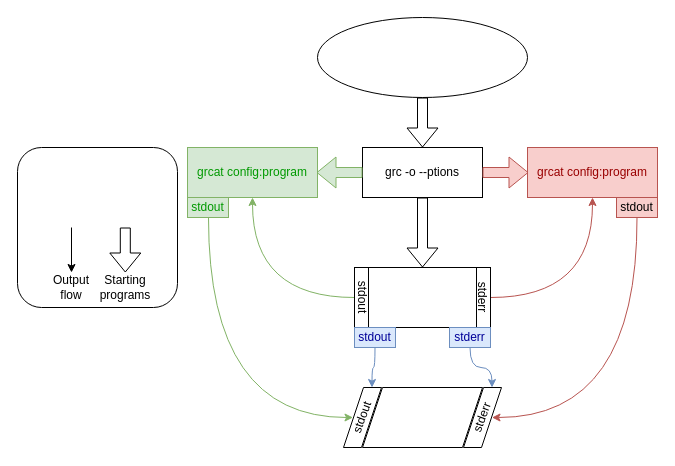
This 675x466 diagram has some shape labels left out. Each missing label, with the box of its shape:
Command: grc -o --ptions program -o --ptions: (316, 16, 528, 98)
if grc redirects stdout if grc redirects stderr for non-redirected streams: (16, 146, 178, 308)
program -o --ptions: (354, 266, 490, 328)
Terminal: (362, 386, 482, 448)
